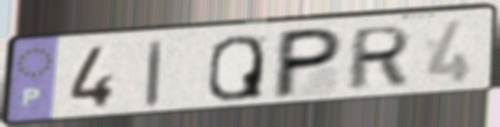4: (422, 17, 478, 88), (67, 43, 119, 112)
I: (142, 37, 166, 110)
P: (268, 25, 347, 102)
Q: (205, 32, 267, 103)
R: (342, 23, 416, 93)
